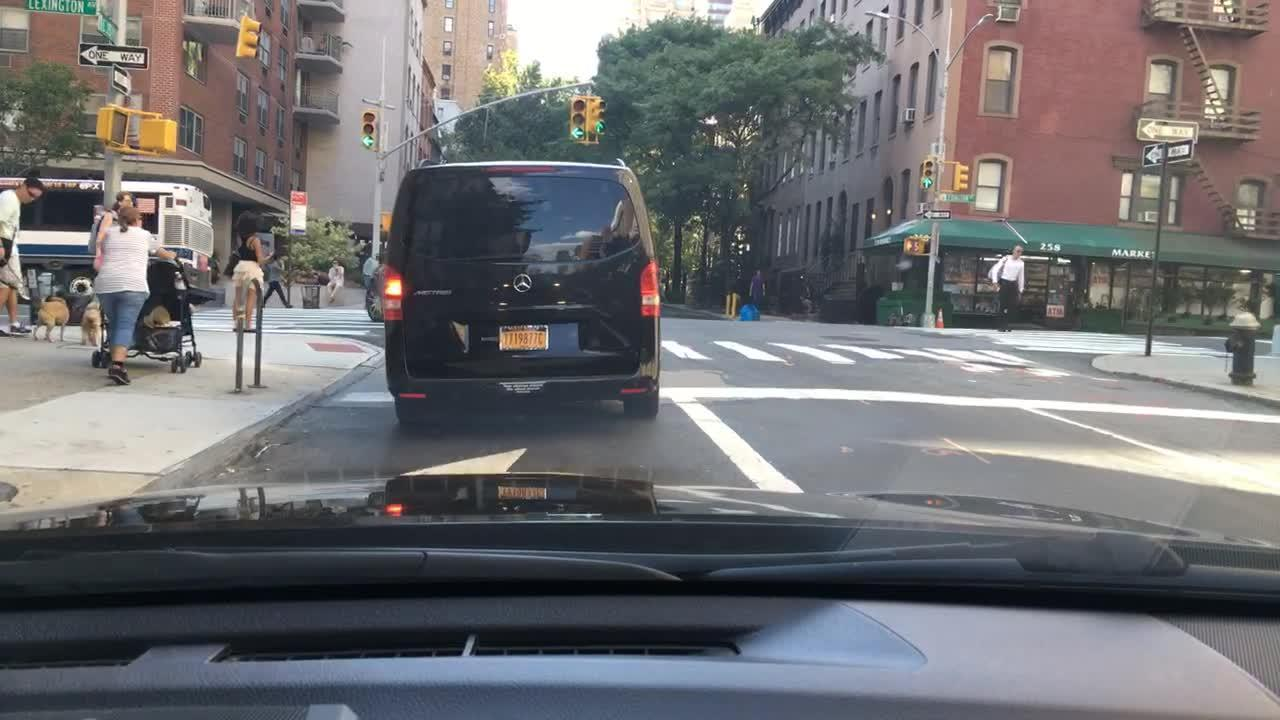Mercedes: (512, 271, 536, 298)
